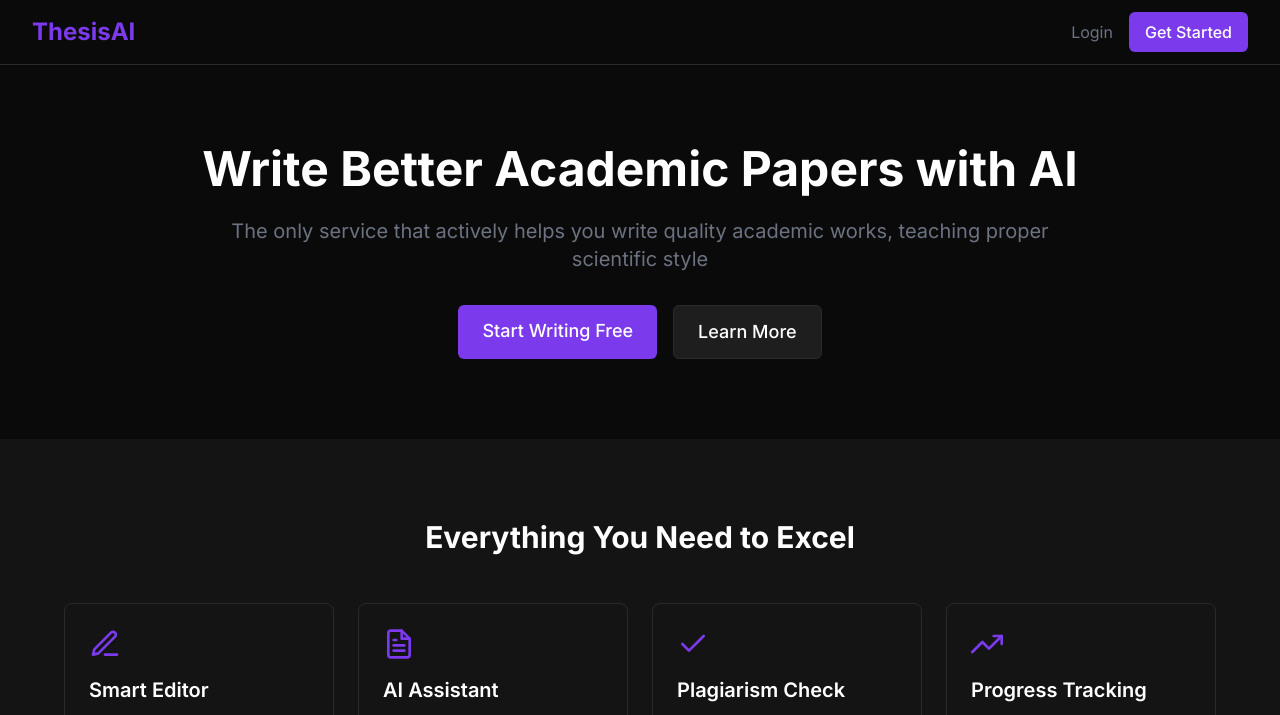
it: Authentication Flow › should navigate to register page
Click the link "Get Started" at (1189, 32), box [1129, 12, 1248, 52]
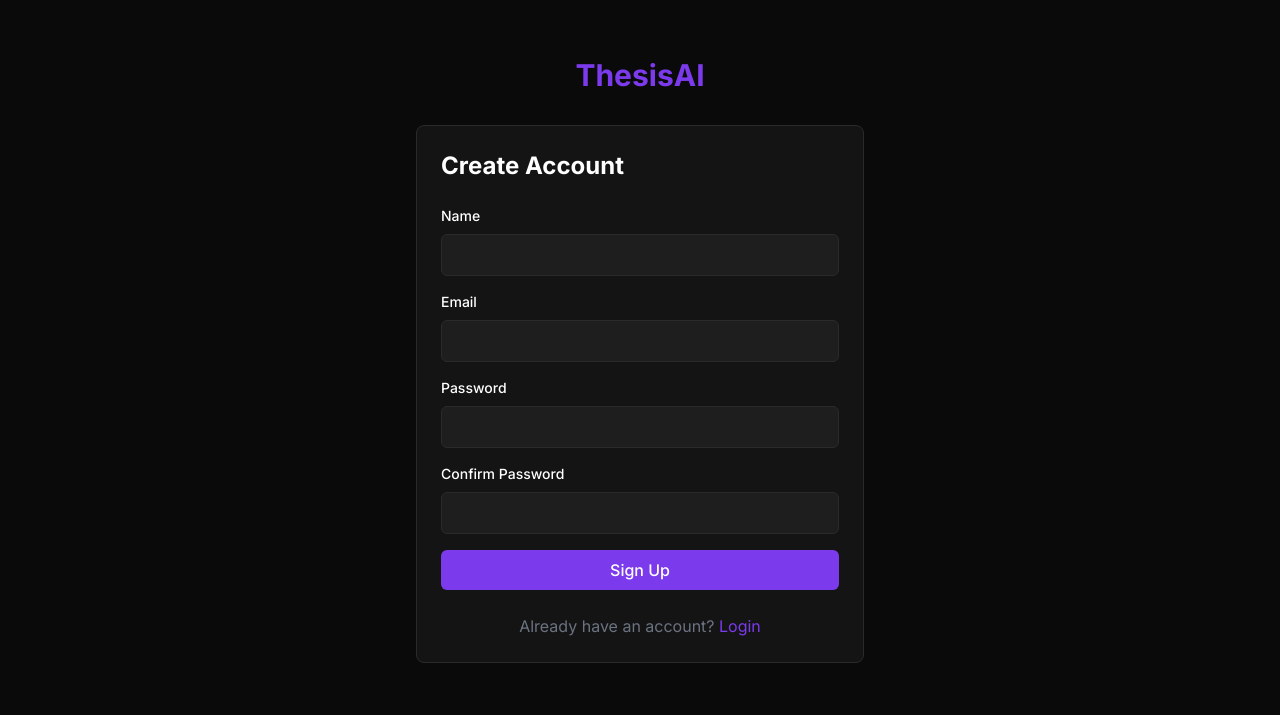
Now the heading "Create Account" is shown, box [441, 151, 624, 180]
